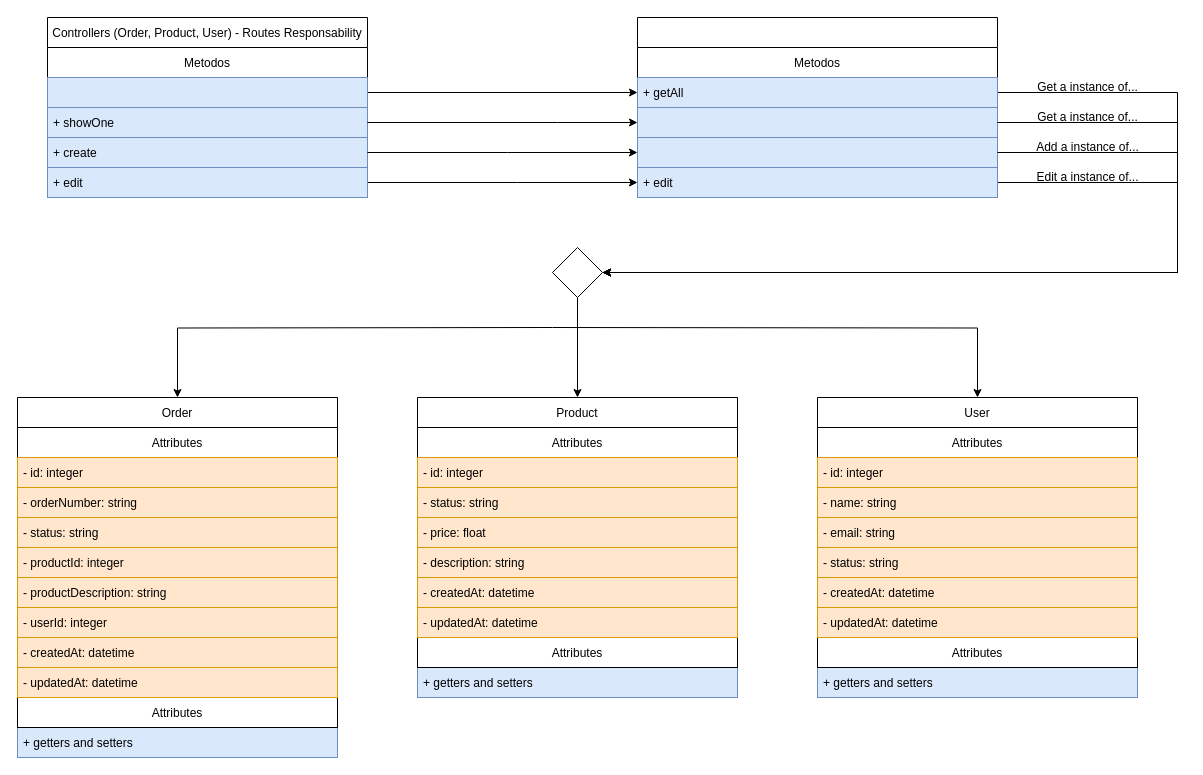
Image size: 1203x775. Some labels were removed from this diagram. The shapes that lost their labels are listed below. From the top down, each one's box as (x1, y1, x2, y2) in pixels, then its label:
(46, 76, 368, 108): + showAll
(636, 16, 998, 168): Services (Order, Product, User) - Logic/Database responsability
(636, 106, 998, 138): + getOne
(636, 136, 998, 168): + add
